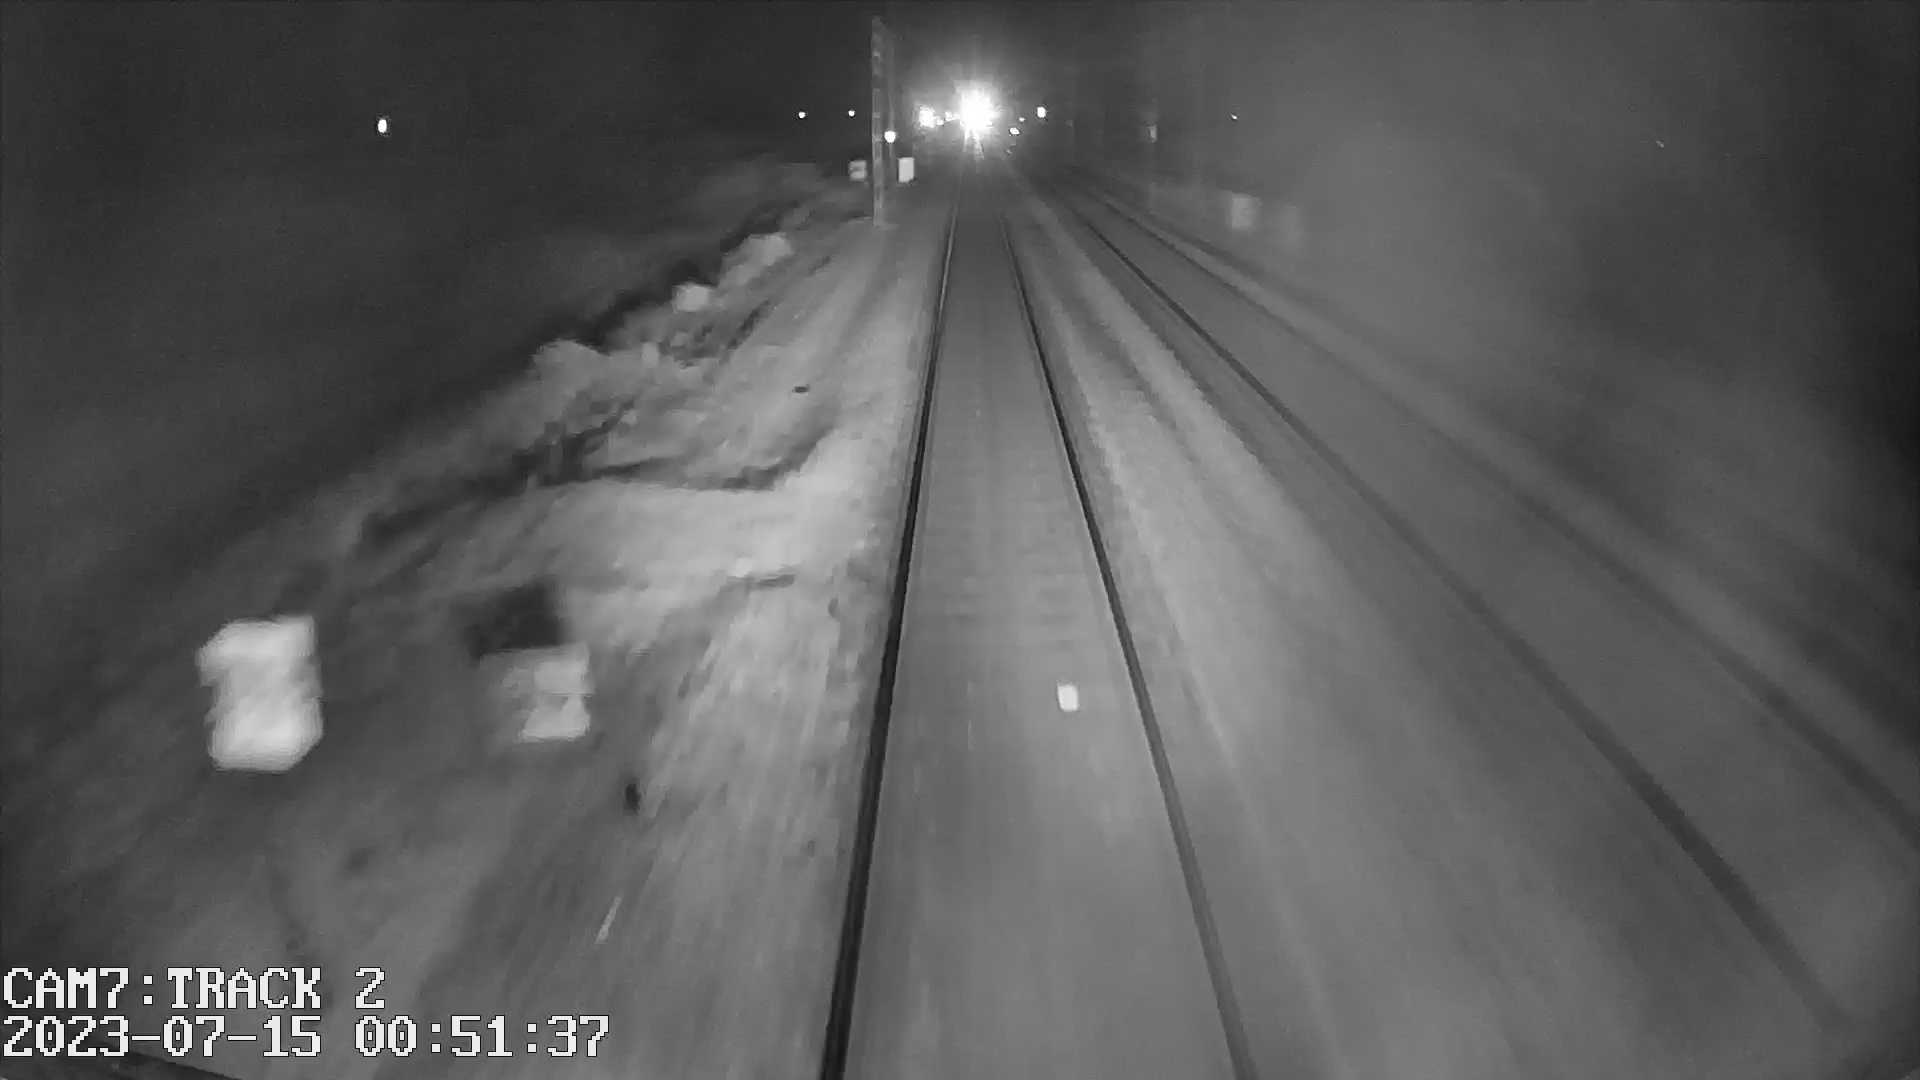track1: (834, 175, 1244, 1059)
track2: (1052, 185, 1906, 949)
